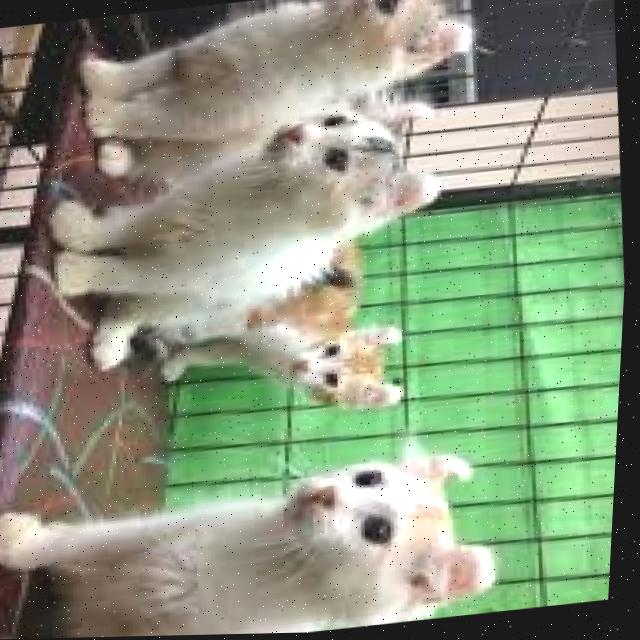American Curl: (35, 97, 461, 376), (0, 442, 514, 640), (69, 0, 498, 142), (246, 292, 419, 430)
